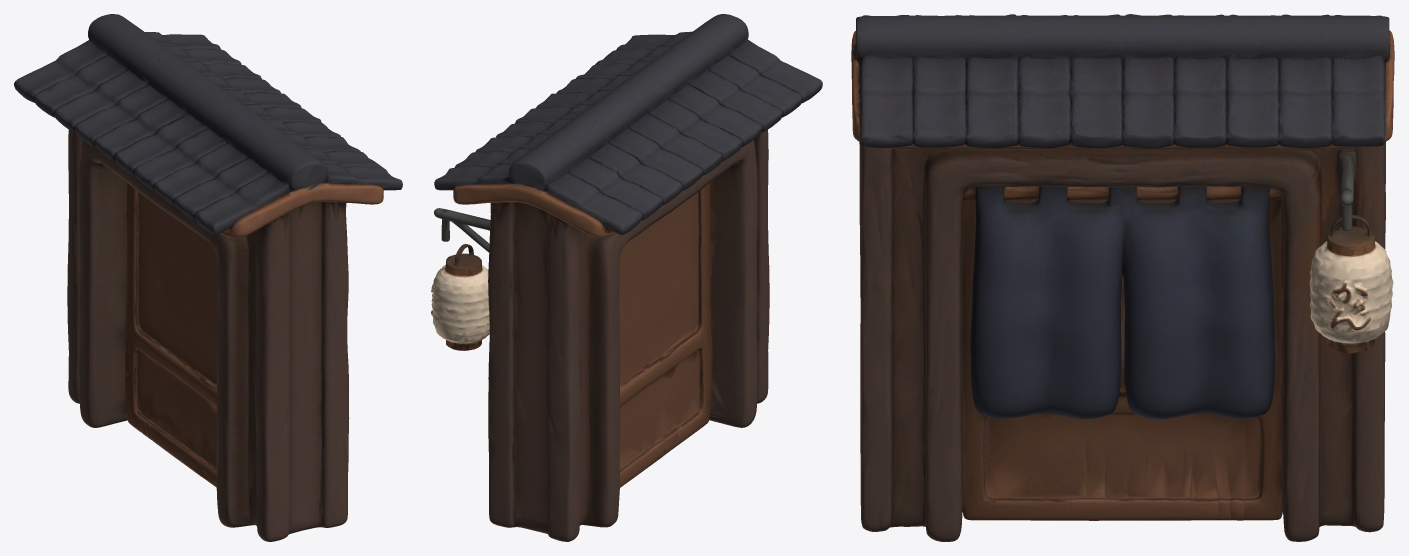
Rendered from JP_사물_s2_entrance_door_closed_old.glb.
3 views of the same model, side by side, from view 1: azimuth 30°, elevation 25°; view 2: azimuth 150°, elevation 25°; view 3: azimuth 270°, elevation 25° (orthographic). The views are drawn at different scales.
Visible parts, largest first — view 1: tripo_node_088fc7b5-8eb0-4393-b72f-2d75868283b3; view 2: tripo_node_088fc7b5-8eb0-4393-b72f-2d75868283b3; view 3: tripo_node_088fc7b5-8eb0-4393-b72f-2d75868283b3.
Boxes of the visible parts, x1,y1,x2,y2 form: tripo_node_088fc7b5-8eb0-4393-b72f-2d75868283b3: (14,14,402,541); tripo_node_088fc7b5-8eb0-4393-b72f-2d75868283b3: (431,14,822,541); tripo_node_088fc7b5-8eb0-4393-b72f-2d75868283b3: (851,14,1394,541).
Bounding box in the file's own units: 0.5649 × 0.998 × 0.9998.
Materials: 1 (1 with a texture image).
